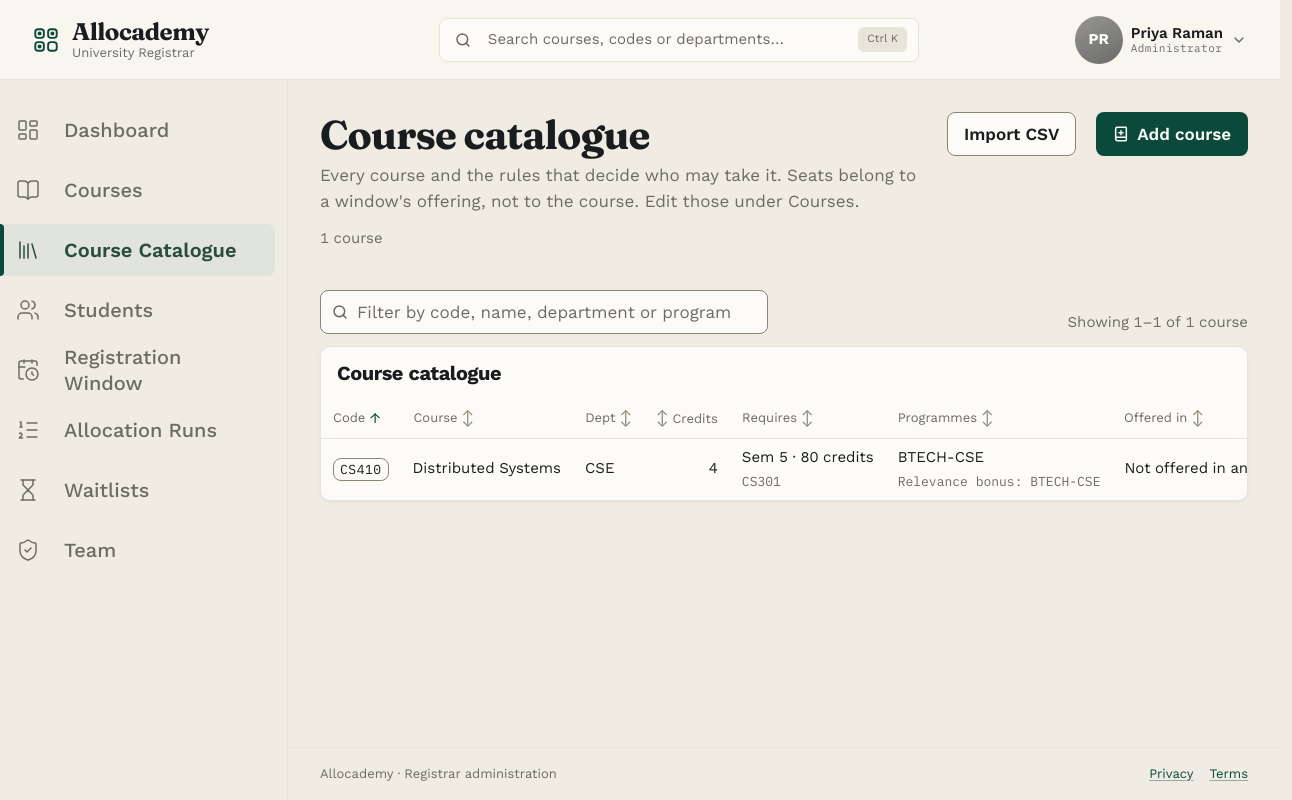
Test case: the course CSV import › says a prerequisite may name a course the same file creates
This screenshot has width=1292, height=800.
Expected: the heading "Course catalogue" is shown, [320,110,650,159]
Click the button "Import CSV" at (1012, 134), box [947,112,1076,156]
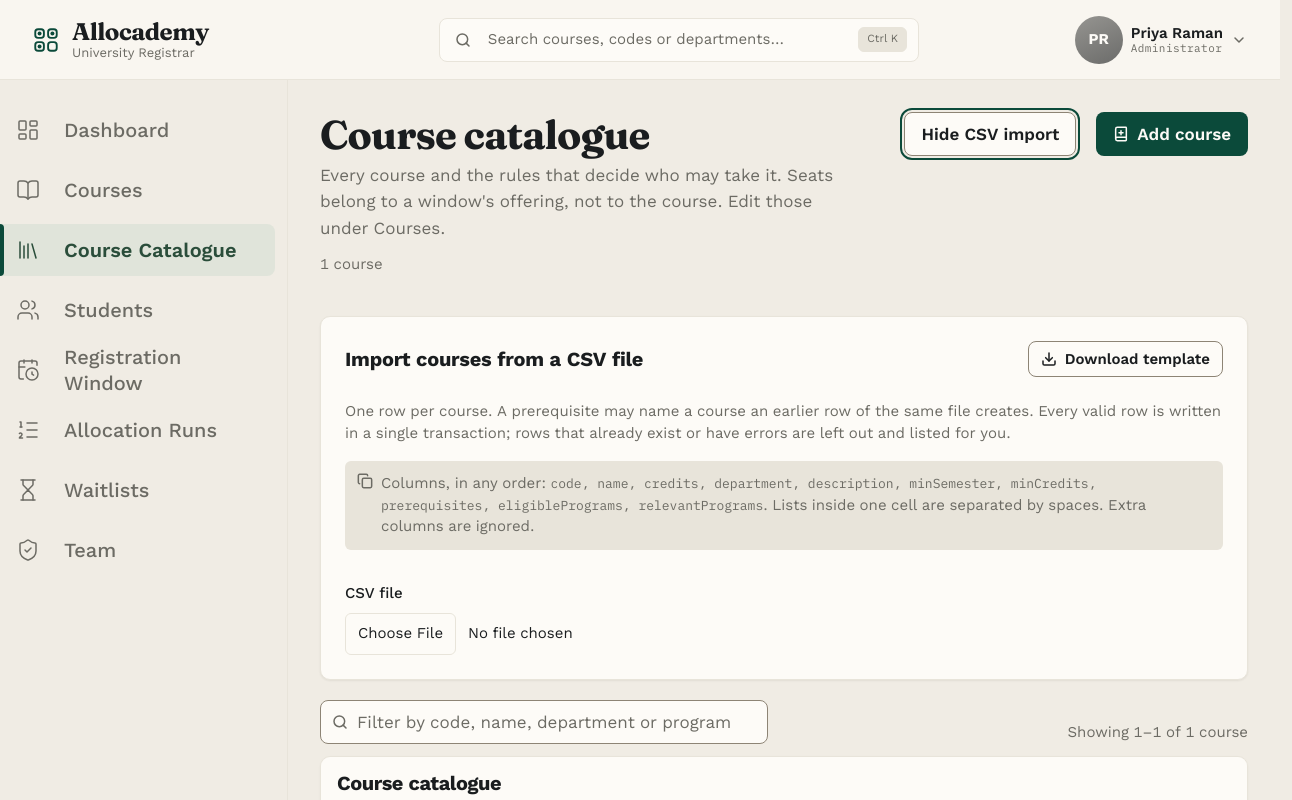
Expected: the text "prerequisite may name a course an earlier row of the same file" is shown, [345,402,1221,442]
